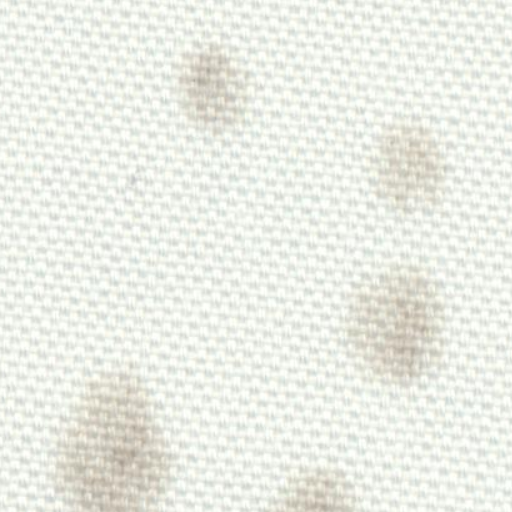WuZi: (34, 358, 184, 506), (328, 252, 462, 394), (364, 104, 466, 218), (173, 30, 260, 142), (268, 448, 360, 508)
